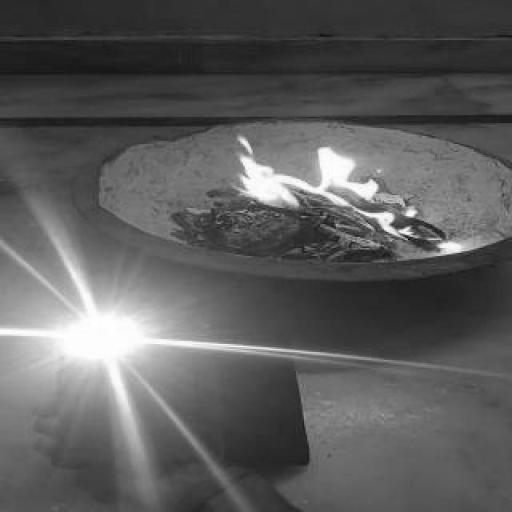smoke: (200, 139, 448, 253)
